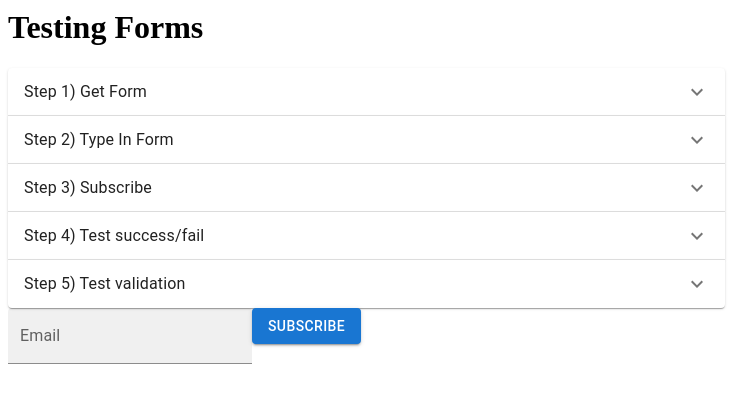
Scenario: Form test › test subscribe
In the field labelled "Email": (130, 336) x1=8 y1=308 x2=252 y2=364, type "test@t.com"
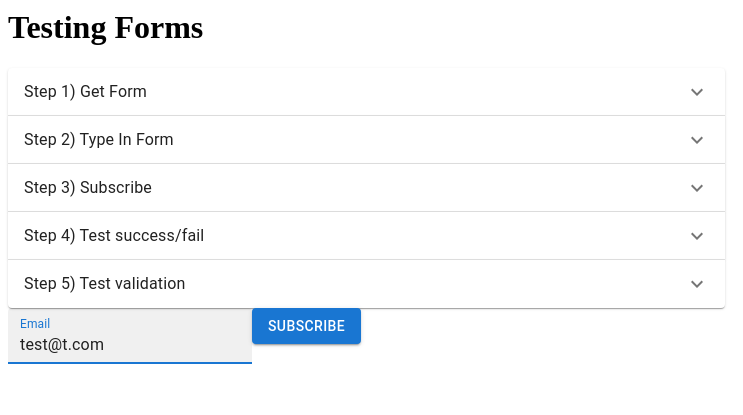
Check: the text "Successfully subbed: test@t.com" is not shown
Click the button with test id "subscribe_button": (307, 327) x1=252 y1=308 x2=361 y2=345
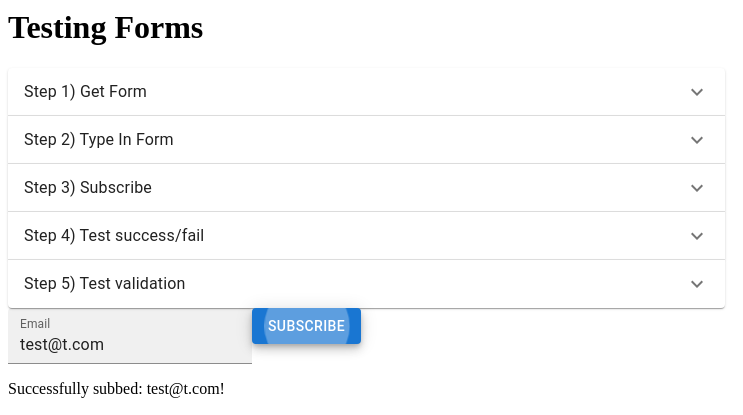
Check: the text with test id "subscribe_message" shows "Successfully subbed:", box x1=8 y1=380 x2=225 y2=397
Clear the field labelled "Email": (130, 336) x1=8 y1=308 x2=252 y2=364
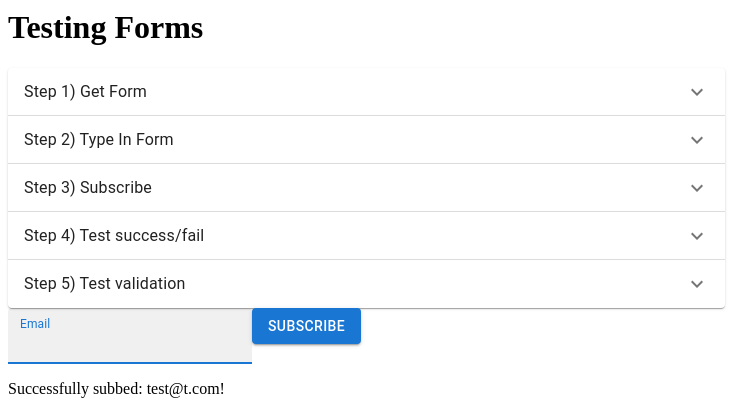
Click the button with test id "subscribe_button": (307, 327) x1=252 y1=308 x2=361 y2=345
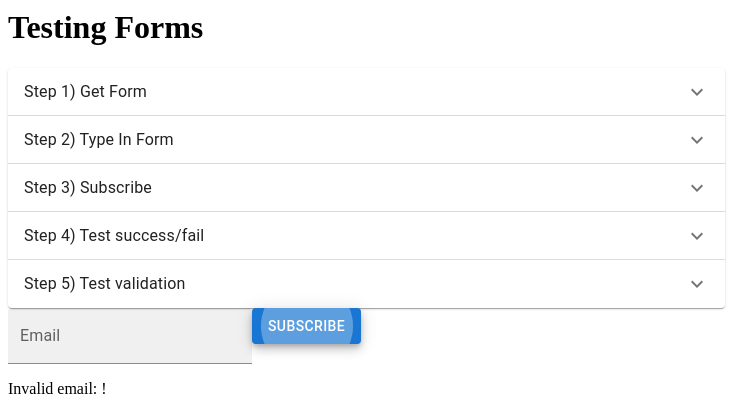
Check: the text "Invalid email: !" is shown, box x1=8 y1=380 x2=107 y2=397
